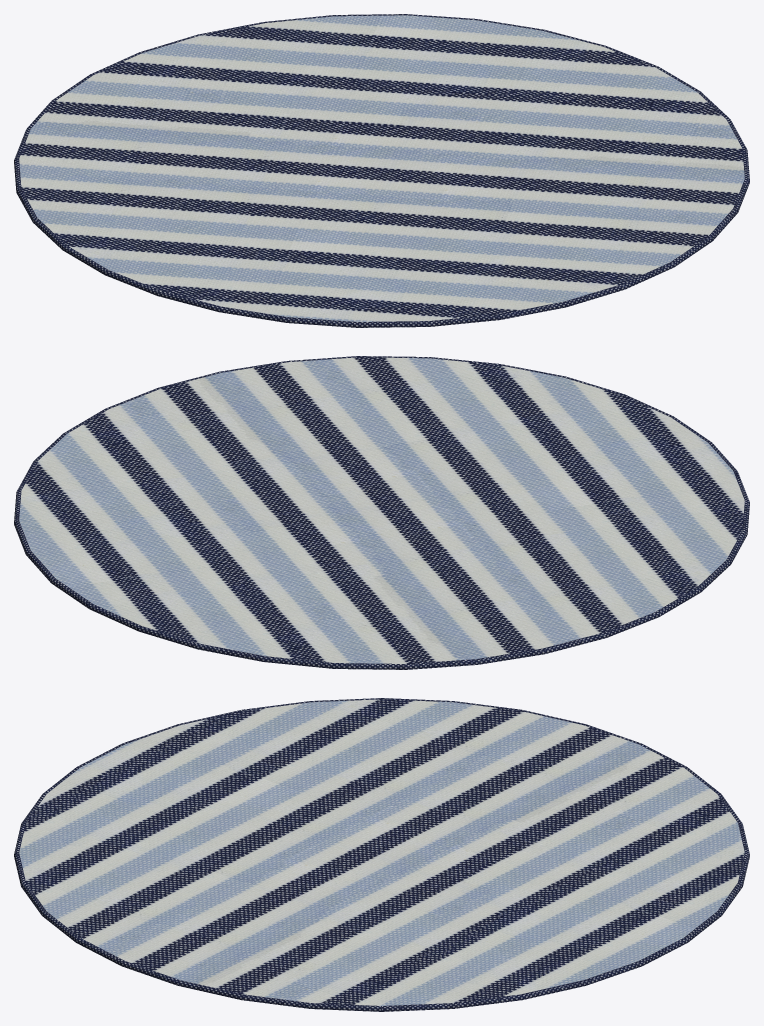
File: rug_circle_large.fbx
3 views of the same model, one above another, from view 1: azimuth 30°, elevation 25°; view 2: azimuth 150°, elevation 25°; view 3: azimuth 270°, elevation 25° (orthographic).
Visible parts, largest first — view 1: Cylinder; view 2: Cylinder; view 3: Cylinder.
Boxes of the visible parts, box(x1,y1,x2,y2) form: Cylinder: box(14, 14, 749, 327); Cylinder: box(14, 356, 749, 669); Cylinder: box(14, 698, 749, 1011).
Bounding box in the file's own units: 309 × 1.74 × 309.
